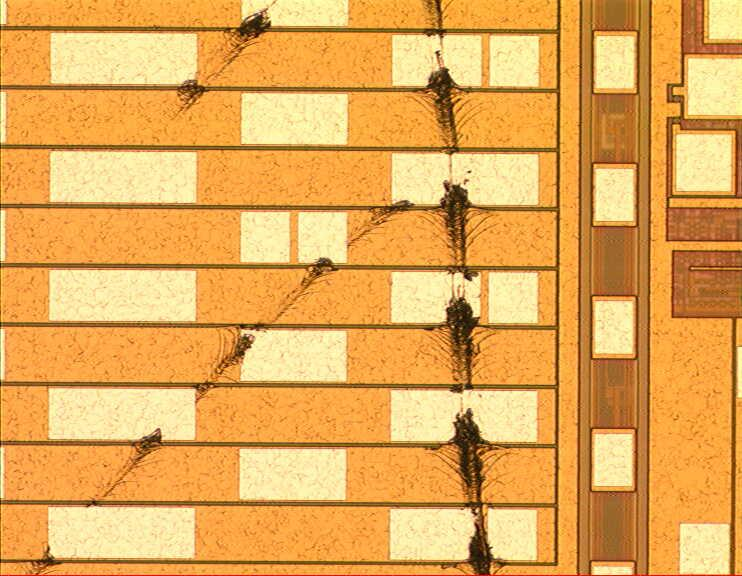SCRATCH: (26, 1, 521, 576)
